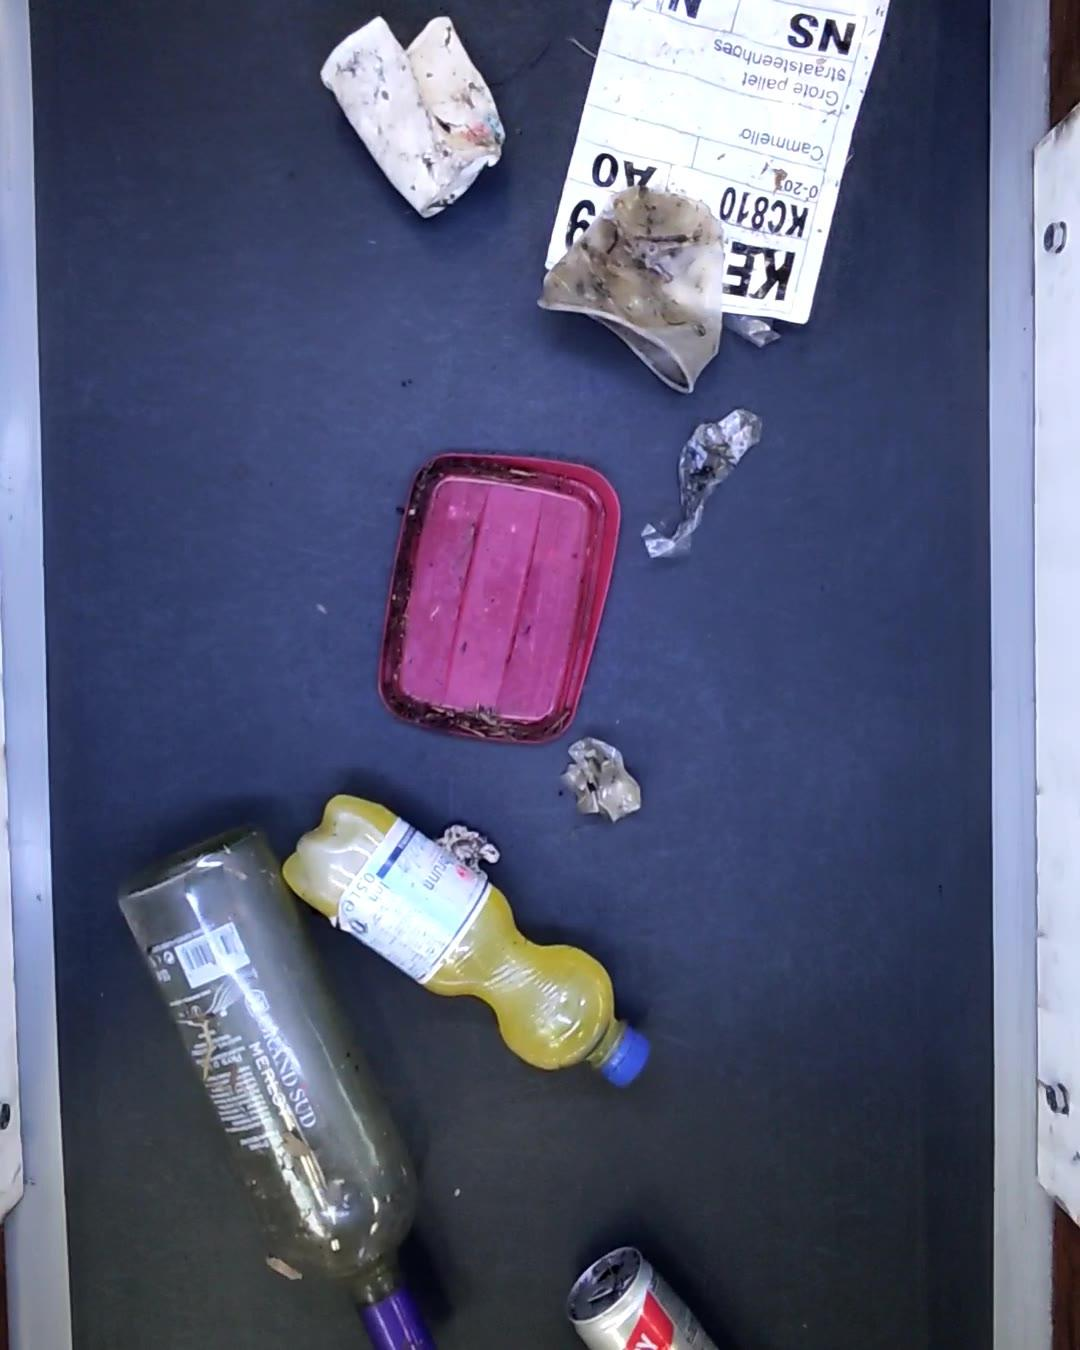Drankblikjes: (571, 1242, 721, 1350)
Drankflessen - 1-2 liter: (287, 790, 655, 1087)
Plastic folies of stukken daarvan 2.5- 50 cm: (642, 412, 762, 560), (560, 738, 642, 818)
